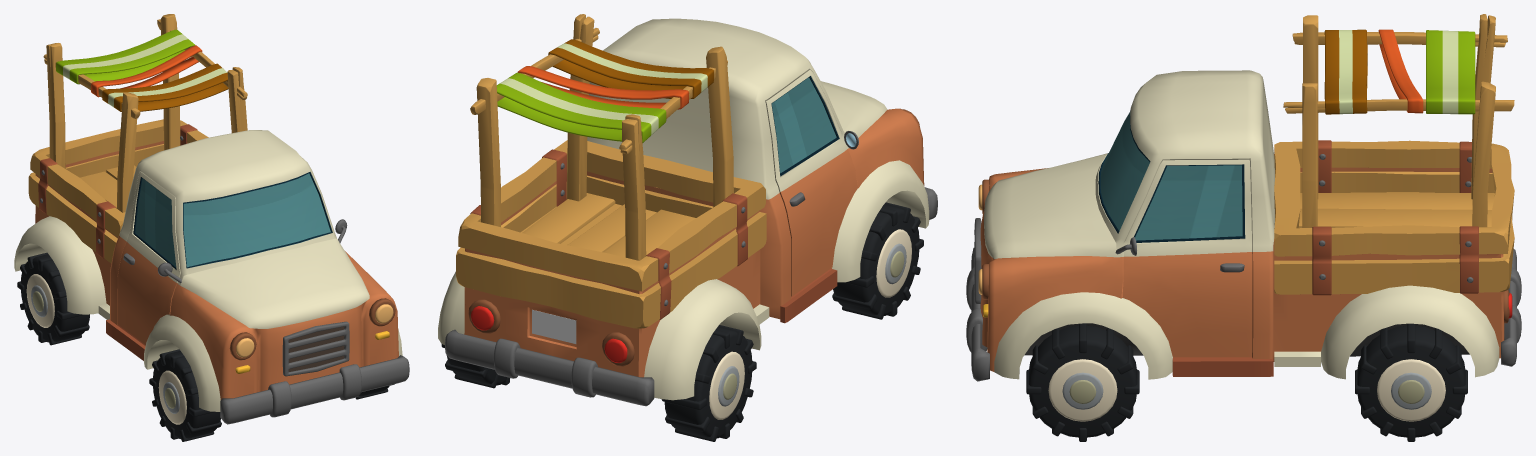
Rendered from Car_02.fbx.
The picture shows the model from 3 angles, left to right: view 1: azimuth 30°, elevation 25°; view 2: azimuth 150°, elevation 25°; view 3: azimuth 270°, elevation 25°; orthographic projection. The views are drawn at different scales.
Parts seen in each view (by area): view 1: Car_02_Body, Car_Awning, Wheel_RL, Wheel_FL, Car_Belts, Car_Wooden_Walkway; view 2: Car_02_Body, Car_Awning, Wheel_RL, Wheel_FL, Car_Wooden_Walkway, Car_Belts, Wheel_RR; view 3: Car_02_Body, Car_Awning, Wheel_FR, Wheel_RR, Car_Wooden_Walkway, Car_Belts.
Part boxes in pixels (bbox=[...]): Car_02_Body: bbox=[14, 119, 409, 424]; Car_Awning: bbox=[43, 14, 247, 212]; Wheel_RL: bbox=[17, 252, 89, 345]; Wheel_FL: bbox=[149, 349, 221, 441]; Car_Belts: bbox=[38, 124, 197, 258]; Car_Wooden_Walkway: bbox=[80, 165, 136, 208]; Car_02_Body: bbox=[438, 18, 937, 406]; Car_Awning: bbox=[470, 14, 733, 260]; Wheel_RL: bbox=[661, 325, 756, 441]; Wheel_FL: bbox=[832, 202, 923, 319]; Car_Wooden_Walkway: bbox=[522, 193, 695, 257]; Car_Belts: bbox=[470, 149, 747, 319]; Wheel_RR: bbox=[441, 344, 510, 388]; Car_02_Body: bbox=[966, 70, 1521, 381]; Car_Awning: bbox=[1283, 14, 1514, 227]; Wheel_FR: bbox=[1026, 323, 1139, 441]; Wheel_RR: bbox=[1355, 323, 1467, 441]; Car_Wooden_Walkway: bbox=[1298, 193, 1494, 228]; Car_Belts: bbox=[1312, 140, 1478, 295].
Bounding box in the file's own units: 2.08 × 2.54 × 3.85.
